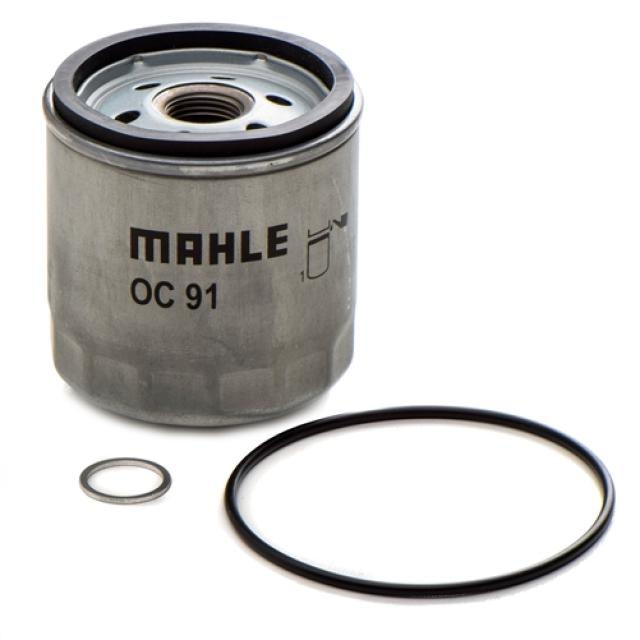oil_filter: (38, 13, 376, 431)
